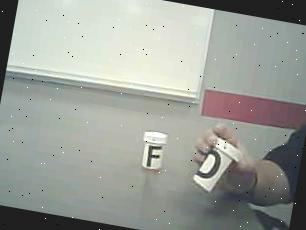Bottle D: (186, 128, 248, 206)
Bottle F: (134, 126, 174, 178)
